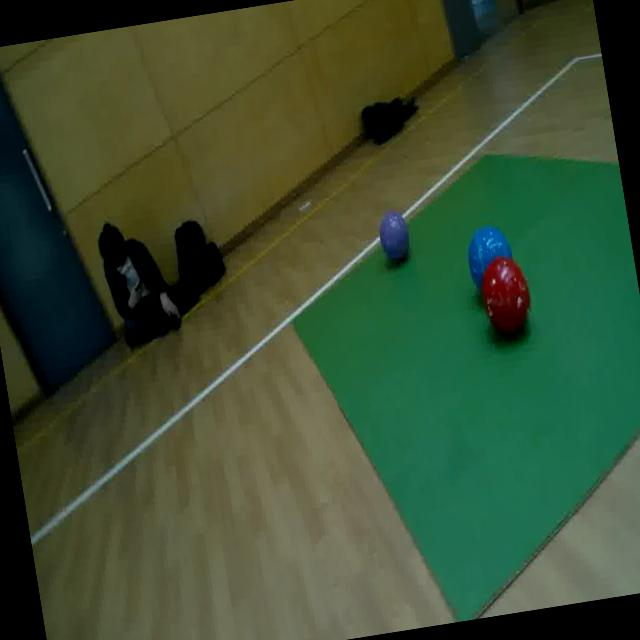blue_ball: (464, 224, 518, 292)
purple_ball: (377, 211, 412, 265)
red_ball: (477, 253, 537, 344)
